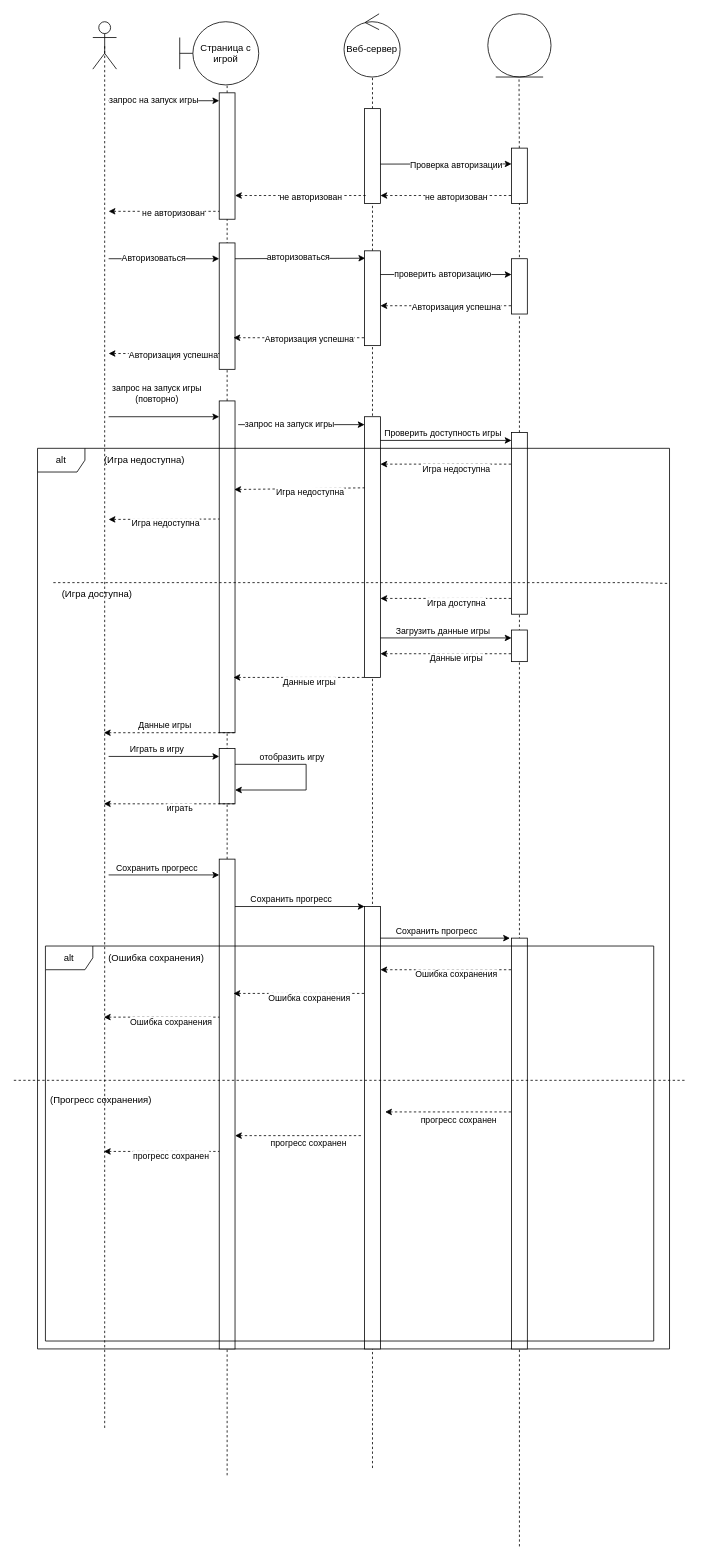
The diagram is 702 pixels wide and 1561 high, and some of its shapes have lost their labels. The shapes that lost their labels are listed below. From the top down, each one's box as (x1, y1, x2, y2) in pixels, then its label:
(92, 21, 117, 69): Пользователь
(487, 13, 551, 77): БД
